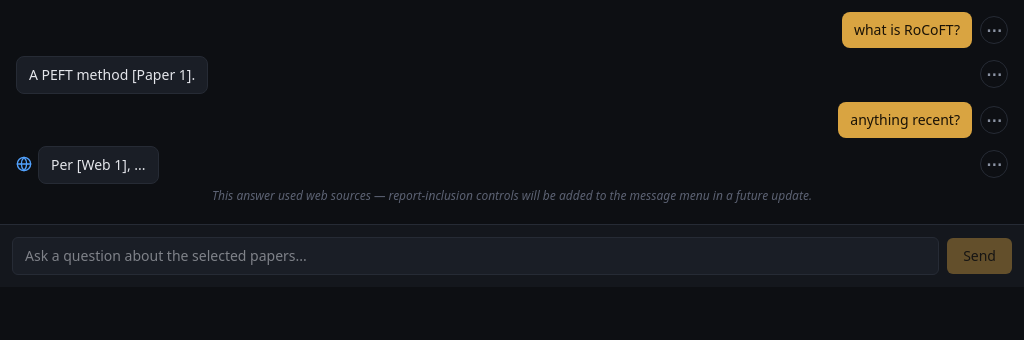
Test: ChatModePanel -- curation-chat-select Phase 2: message menu + select mode › selectable exchanges can be checked and unchecked, and the count updates
The image size is (1024, 340).
Click the button with test id "message-menu-button".
click(994, 30)  # box x1=980 y1=16 x2=1008 y2=44
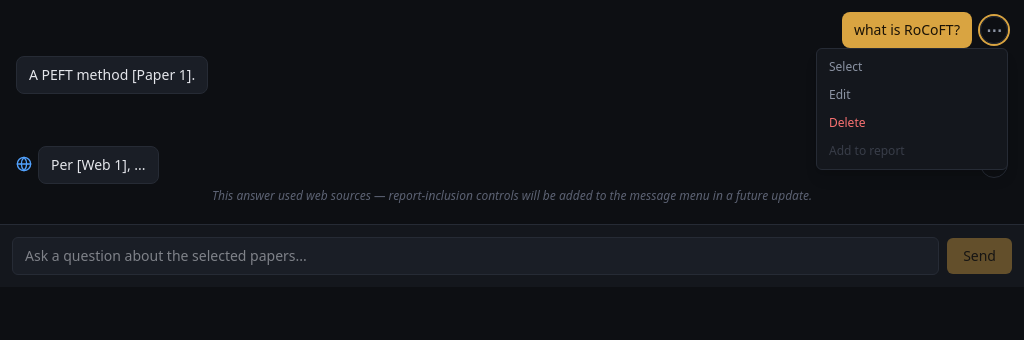
Click the menu item with test id "message-menu-select".
click(912, 67)  # box x1=817 y1=53 x2=1007 y2=81
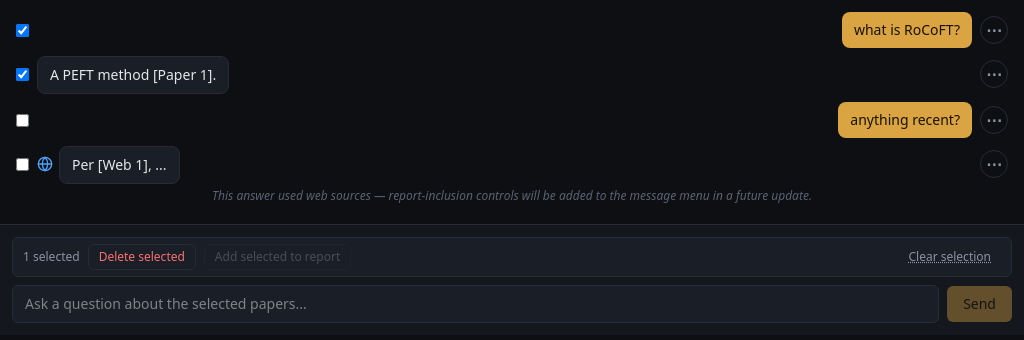
expect the text with test id "bulk-selected-count" reads "1 selected": met, box x1=23 y1=249 x2=80 y2=265
Click the checkbox with test id "exchange-select-checkbox" in the row of "anything recent?".
click(22, 120)  # box x1=16 y1=114 x2=29 y2=127
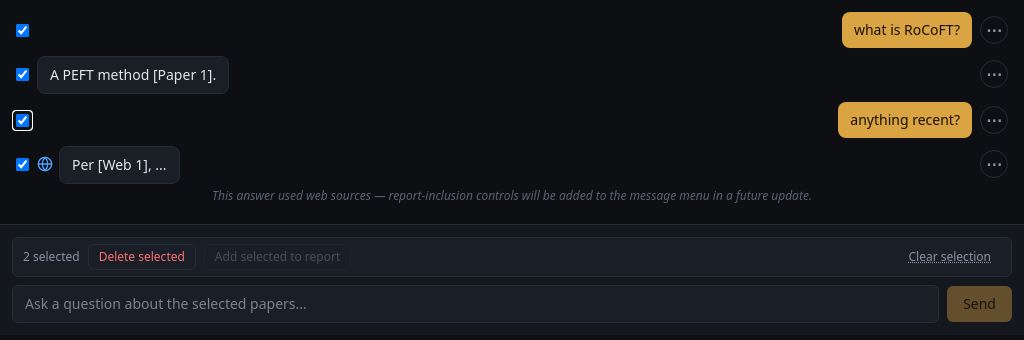
expect the text with test id "bulk-selected-count" reads "2 selected": met, box x1=23 y1=249 x2=80 y2=265
Click the checkbox with test id "exchange-select-checkbox" in the row of "anything recent?".
click(22, 120)  # box x1=16 y1=114 x2=29 y2=127
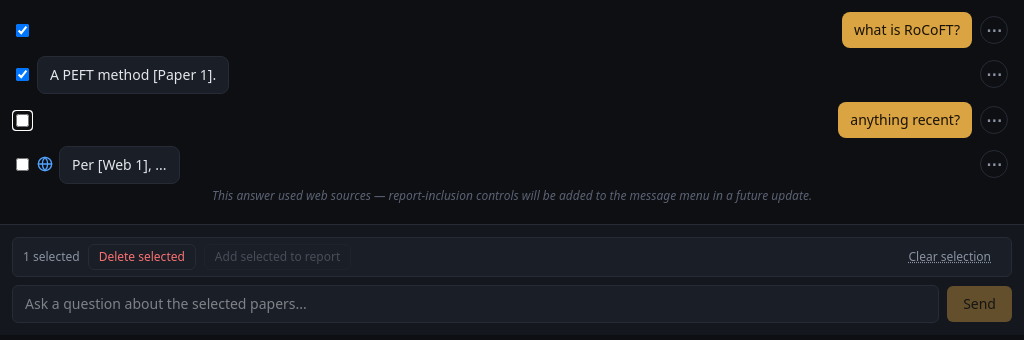
expect the text with test id "bulk-selected-count" reads "1 selected": met, box x1=23 y1=249 x2=80 y2=265
